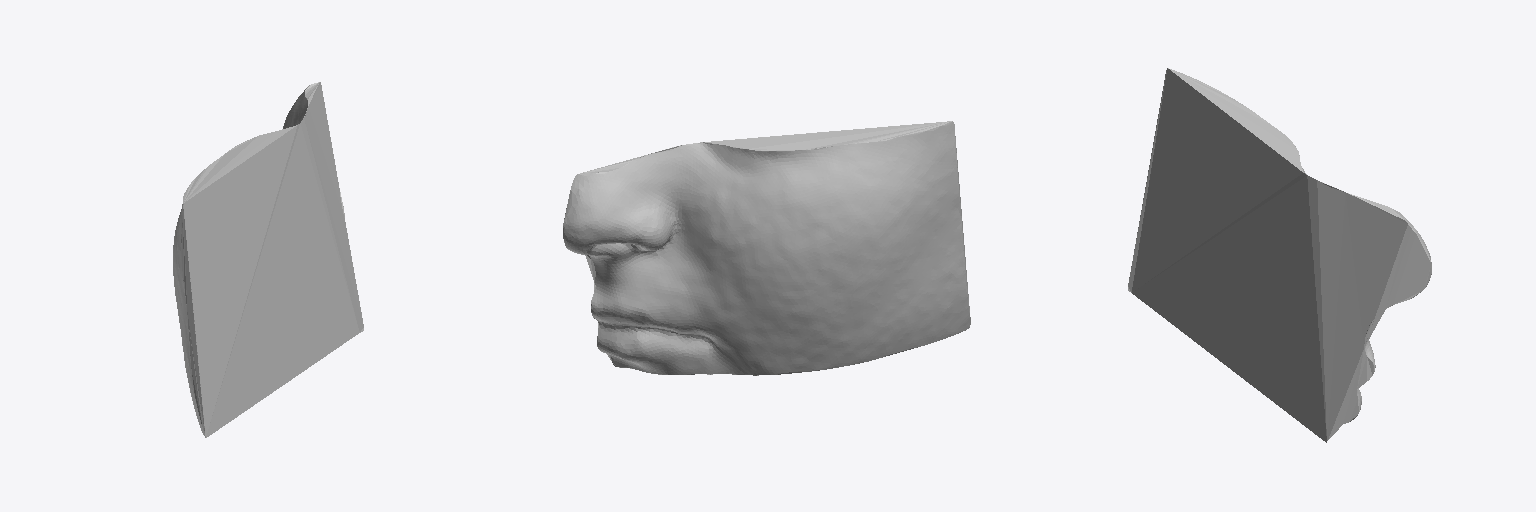
File: skin_sample_textured2.obj
The picture shows the model from 3 angles: view 1: azimuth 30°, elevation 25°; view 2: azimuth 150°, elevation 25°; view 3: azimuth 270°, elevation 25°; orthographic projection.
Bounding box in the file's own units: 79.74 × 72.33 × 79.59.